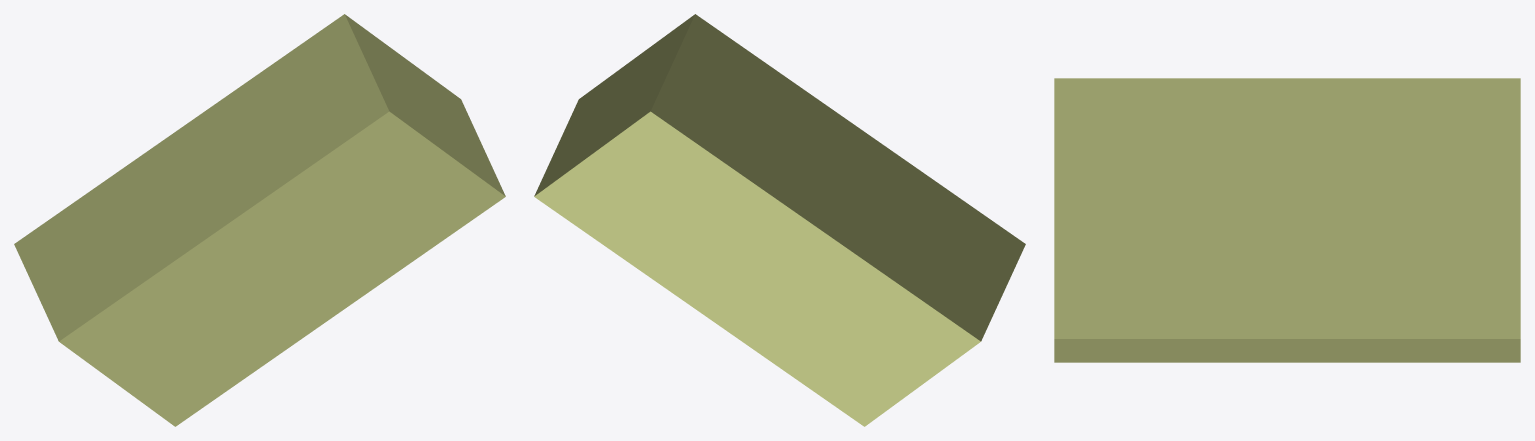
3 renders of one model, left to right at view 1: azimuth 30°, elevation 25°; view 2: azimuth 150°, elevation 25°; view 3: azimuth 270°, elevation 25°, orthographic. The views are drawn at different scales.
Visible parts, largest first — view 1: 0_1_1_3_3_2_1_1_1_2; view 2: 0_1_1_3_3_2_1_1_1_2; view 3: 0_1_1_3_3_2_1_1_1_2.
Part boxes in pixels (x1,y1,x2,y2): 0_1_1_3_3_2_1_1_1_2: (14,14,505,426); 0_1_1_3_3_2_1_1_1_2: (534,14,1025,426); 0_1_1_3_3_2_1_1_1_2: (1054,78,1520,362).
Size of the model in its own units: 16.74 by 10.99 by 9.
